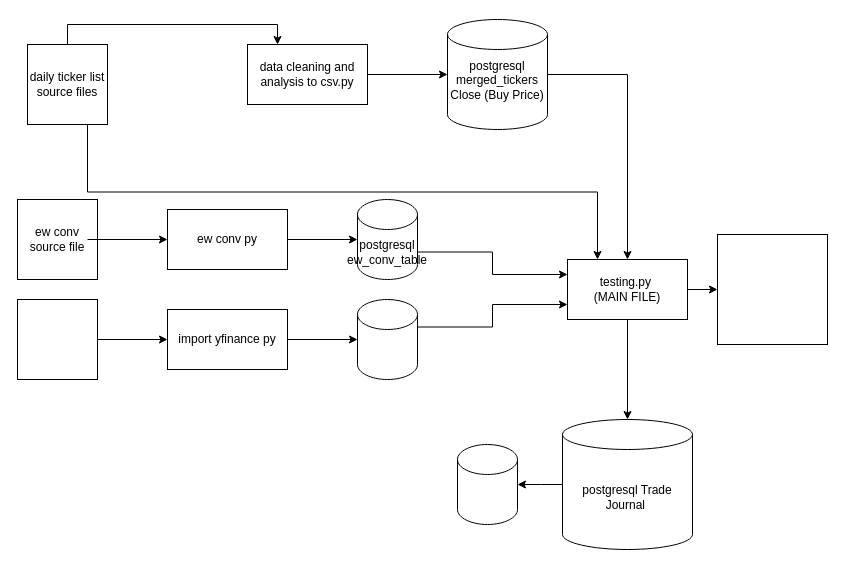
Some shapes in this 845 by 567 pixel diagram are drawn without their labels. The shapes that lost their labels are listed below. From the top down, each one's centre as x and y in pixels, then its label:
[772,289]: ew_conv_buy_ and_sell_today _and_yesterday .xlsx
[57,339]: download folder
[387,339]: postgresql yfinance_data
[487,484]: Closed Archives
